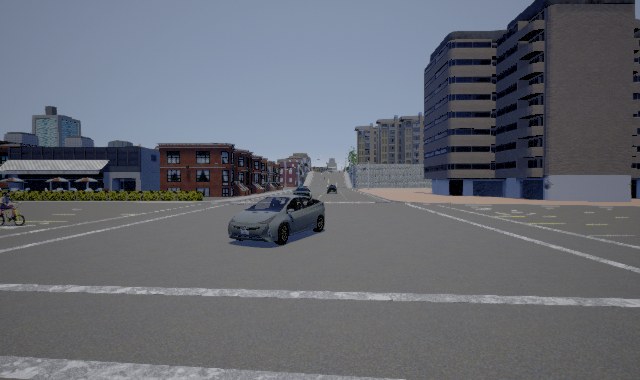bike: (1, 192, 31, 228)
vehicle: (228, 193, 326, 246), (327, 183, 339, 194)
